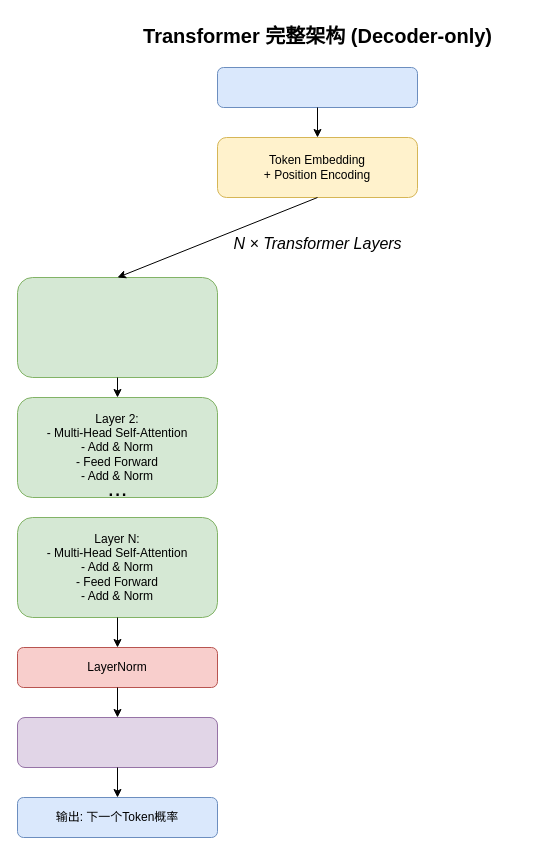
This 535x855 diagram has some shape labels left out. The centre of each missing label's shape, as x and y in pixels:
"Layer 1: - Multi-Head Self-Attention - Add & Norm - Feed Forward - Add & Norm" goes at point 117,327.
"Linear → Softmax" goes at point 117,742.
"输入: Token序列" goes at point 317,87.
